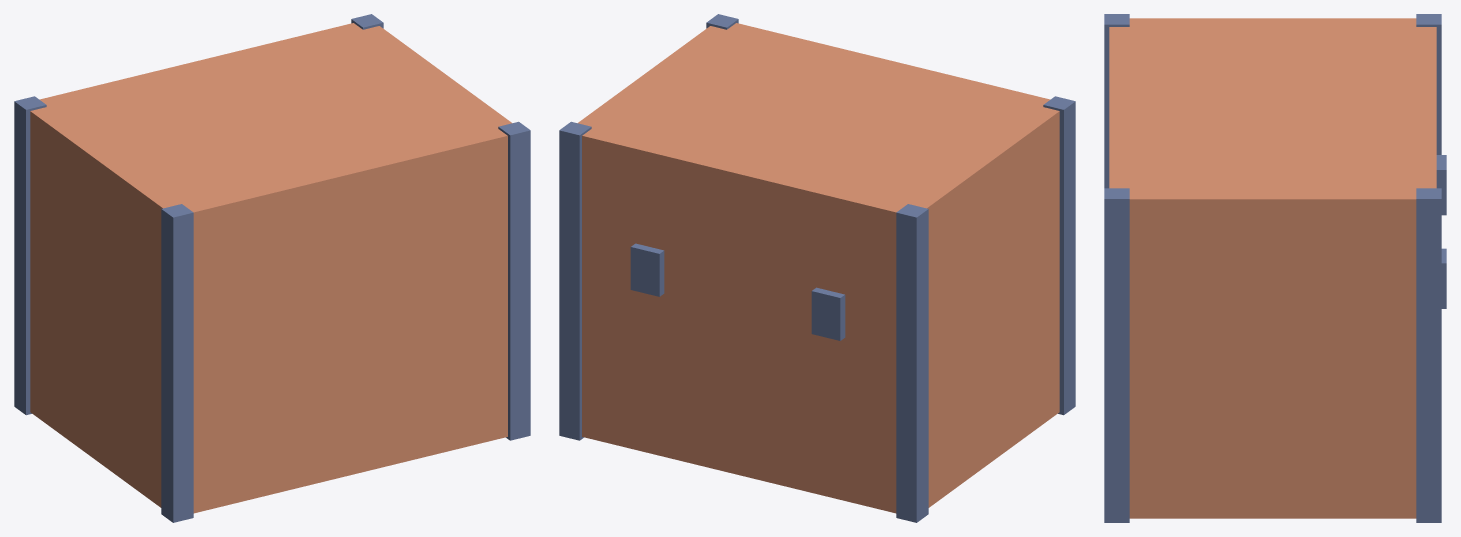
The model's file is supply_crate.glb.
3 renders of one model, left to right at view 1: azimuth 30°, elevation 25°; view 2: azimuth 150°, elevation 25°; view 3: azimuth 270°, elevation 25°, orthographic. The views are drawn at different scales.
Visible parts, largest first — view 1: Cube, Cube.001, Cube.003, Cube.002; view 2: Cube, Cube.002, Cube.004, Cube.001, Cube.005, Cube.006; view 3: Cube, Cube.003, Cube.004, Cube.001, Cube.002, Cube.005.
Boxes of the visible parts, left/top/right/bottom form: Cube: left=30, top=23, right=512, bottom=513; Cube.001: left=161, top=204, right=193, bottom=522; Cube.003: left=498, top=121, right=530, bottom=440; Cube.002: left=14, top=96, right=46, bottom=415; Cube: left=577, top=23, right=1059, bottom=513; Cube.002: left=896, top=204, right=928, bottom=522; Cube.004: left=559, top=121, right=591, bottom=440; Cube.001: left=1043, top=96, right=1075, bottom=415; Cube.005: left=811, top=287, right=845, bottom=340; Cube.006: left=630, top=243, right=664, bottom=296; Cube: left=1109, top=18, right=1436, bottom=518; Cube.003: left=1104, top=188, right=1129, bottom=522; Cube.004: left=1416, top=188, right=1441, bottom=522; Cube.001: left=1104, top=14, right=1129, bottom=188; Cube.002: left=1416, top=14, right=1441, bottom=154; Cube.005: left=1436, top=155, right=1446, bottom=215.
Size of the model in its own units: 0.87 by 0.71 by 0.68.
